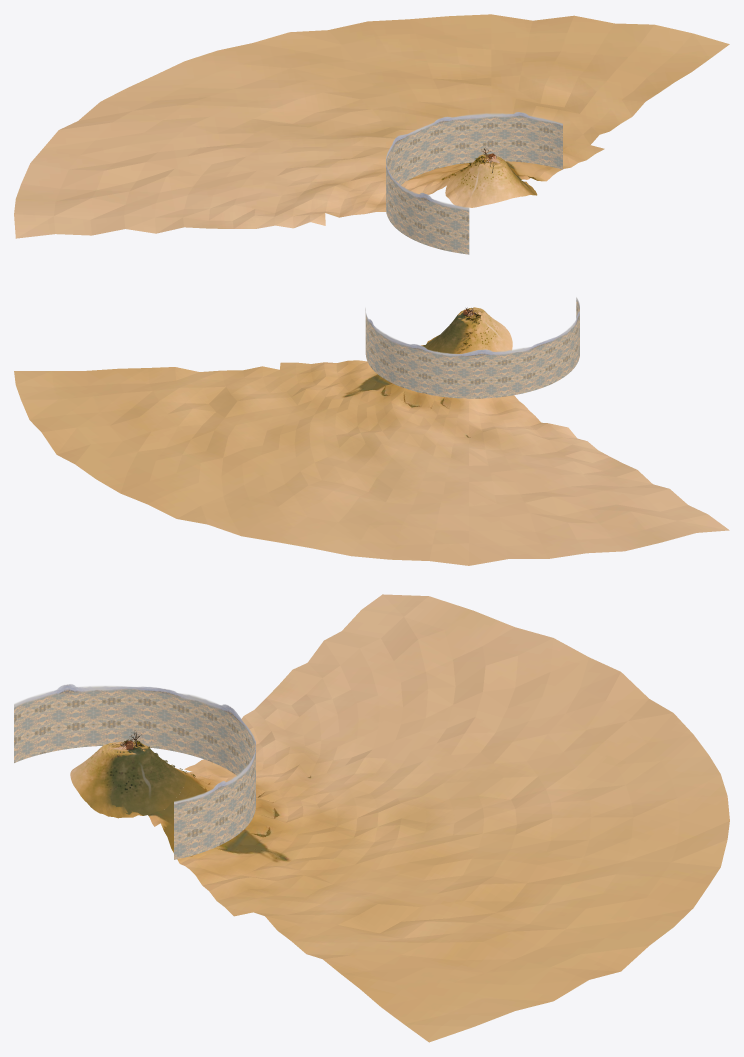
File: pavilion.glb
3 renders of one model, top to bottom at view 1: azimuth 30°, elevation 25°; view 2: azimuth 150°, elevation 25°; view 3: azimuth 270°, elevation 25°, orthographic. The views are drawn at different scales.
Visible parts, largest first — view 1: bake_terrain_far, matte_card, bake_terrain_near; view 2: bake_terrain_far, matte_card, bake_terrain_near; view 3: bake_terrain_far, matte_card, bake_terrain_near.
Part boxes in pixels (x1,y1,x2,y2): bake_terrain_far: (14, 14, 729, 238); matte_card: (386, 112, 562, 254); bake_terrain_near: (445, 154, 537, 207); bake_terrain_far: (14, 345, 729, 565); matte_card: (365, 297, 579, 398); bake_terrain_near: (425, 307, 512, 353); bake_terrain_far: (148, 594, 729, 1042); matte_card: (14, 684, 255, 859); bake_terrain_near: (70, 741, 185, 818).
Size of the model in its own units: 602 by 62.94 by 404.
15 materials, 13 textured.
